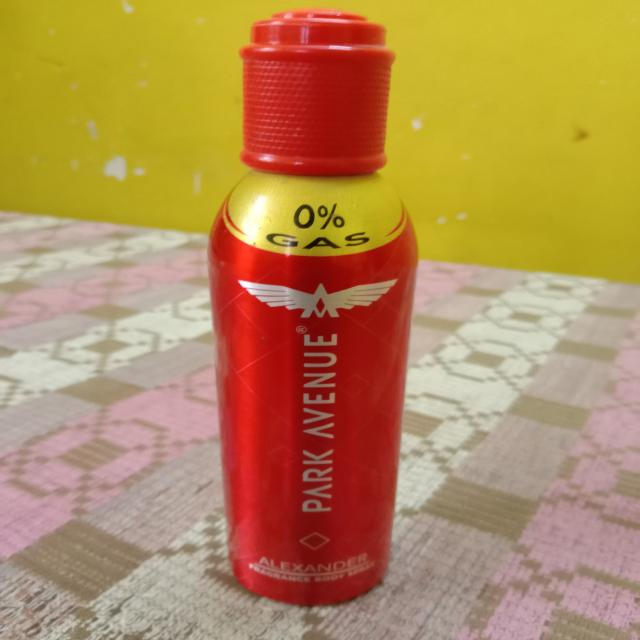deodorant: (218, 8, 418, 608)
